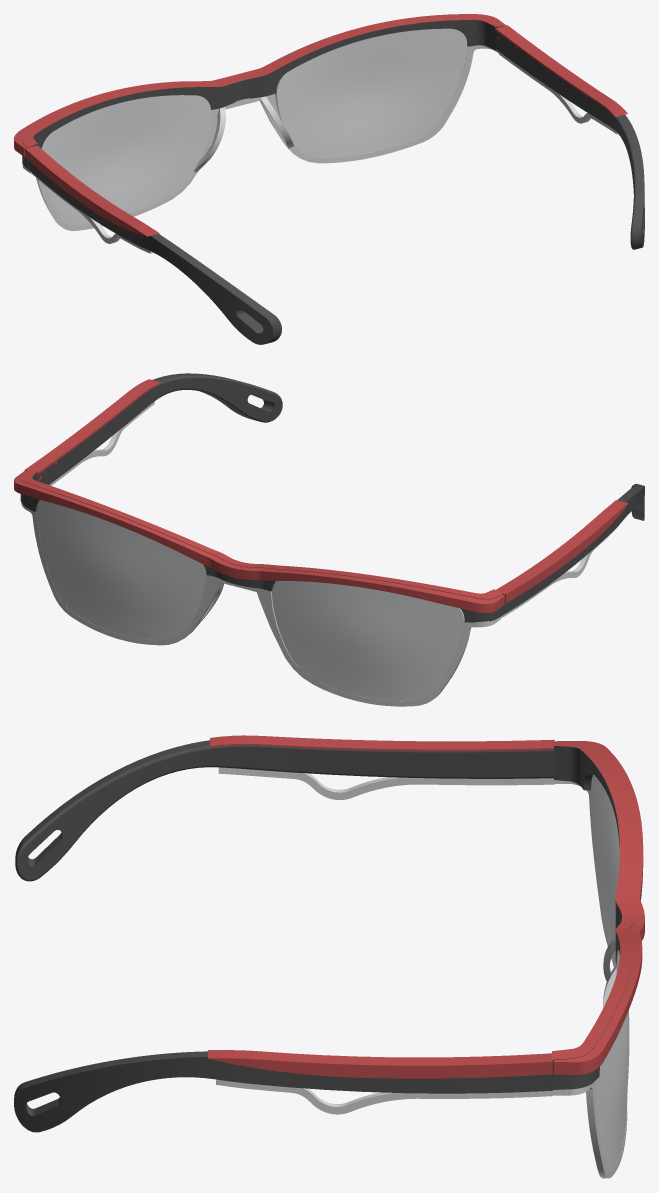
File: done18.fbx
3 renders of one model, top to bottom at view 1: azimuth 30°, elevation 25°; view 2: azimuth 150°, elevation 25°; view 3: azimuth 270°, elevation 25°, orthographic. The views are drawn at different scales.
Parts seen in each view (by area): view 1: Body_1_2, Body_2, 3DGeom~148, Body_1_7, Body_1_4, Body_1, 3DGeom~149, Body_1_8, Body_1_3, Body_1_5, Body_1_6, Body_1_10 (+1 smaller); view 2: Body_2, Body_1_2, Body_1_3, Body_1_4, Body_1, 3DGeom~149, Body_1_8, Body_1_5, Body_1_7, 3DGeom~148, Body_1_6, Body_1_9; view 3: Body_1_7, Body_1_4, Body_1_5, Body_1_3, 3DGeom~149, Body_1_8, Body_1_2, Body_2, Body_1_9, 3DGeom~148, Body_1_6, Body_1.
Part boxes in pixels (bbox=[...]): Body_1_2: bbox=[275, 28, 467, 157]; Body_2: bbox=[41, 95, 212, 226]; 3DGeom~148: bbox=[22, 20, 503, 169]; Body_1_7: bbox=[28, 160, 281, 344]; Body_1_4: bbox=[495, 31, 644, 249]; Body_1: bbox=[22, 45, 498, 230]; 3DGeom~149: bbox=[22, 16, 504, 147]; Body_1_8: bbox=[25, 145, 159, 236]; Body_1_3: bbox=[14, 14, 505, 156]; Body_1_5: bbox=[495, 25, 627, 116]; Body_1_6: bbox=[498, 52, 617, 134]; Body_1_10: bbox=[194, 107, 225, 172]; Body_2: bbox=[271, 581, 464, 700]; Body_1_2: bbox=[36, 499, 206, 639]; Body_1_3: bbox=[14, 471, 504, 612]; Body_1_4: bbox=[37, 373, 282, 484]; Body_1: bbox=[21, 503, 500, 706]; 3DGeom~149: bbox=[21, 470, 503, 598]; Body_1_8: bbox=[496, 500, 628, 603]; Body_1_5: bbox=[24, 379, 161, 480]; Body_1_7: bbox=[503, 484, 644, 614]; 3DGeom~148: bbox=[20, 471, 503, 622]; Body_1_6: bbox=[49, 401, 154, 485]; Body_1_9: bbox=[500, 525, 618, 618]; Body_1_7: bbox=[15, 740, 554, 881]; Body_1_4: bbox=[14, 1051, 552, 1132]; Body_1_5: bbox=[208, 1050, 552, 1078]; Body_1_3: bbox=[554, 741, 644, 1074]; 3DGeom~149: bbox=[552, 741, 634, 1059]; Body_1_8: bbox=[210, 735, 554, 751]; Body_1_2: bbox=[595, 950, 629, 1169]; Body_2: bbox=[591, 774, 619, 965]; Body_1_9: bbox=[218, 767, 554, 799]; 3DGeom~148: bbox=[552, 746, 634, 1089]; Body_1_6: bbox=[216, 1079, 552, 1114]; Body_1: bbox=[551, 780, 627, 1178].
Bounding box in the file's own units: 16.61 × 4.27 × 13.27.
